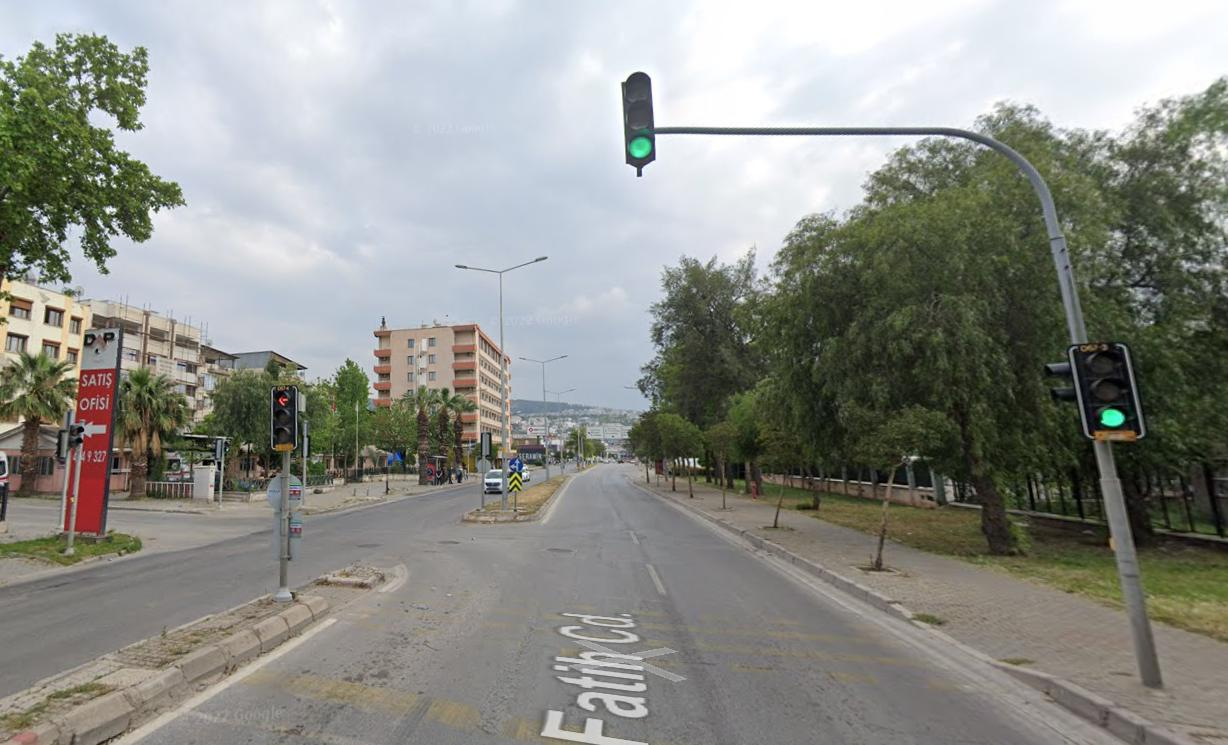greenlight: (1077, 342, 1137, 426), (621, 75, 658, 165)
redlight: (274, 388, 295, 443)
